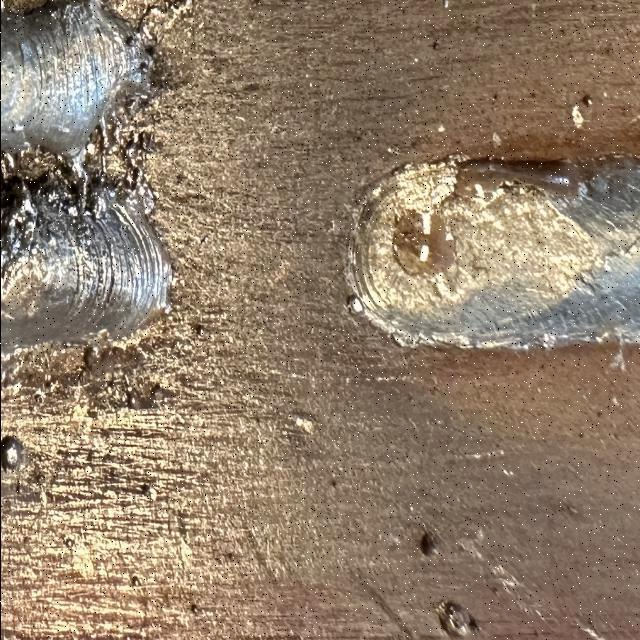Excess Reinforcement: (0, 133, 171, 350), (0, 2, 158, 181)
Spatters: (436, 602, 479, 638), (0, 435, 22, 472), (420, 532, 436, 557), (346, 295, 362, 313), (140, 485, 156, 500), (194, 323, 204, 337), (581, 95, 591, 107), (130, 575, 140, 587)
